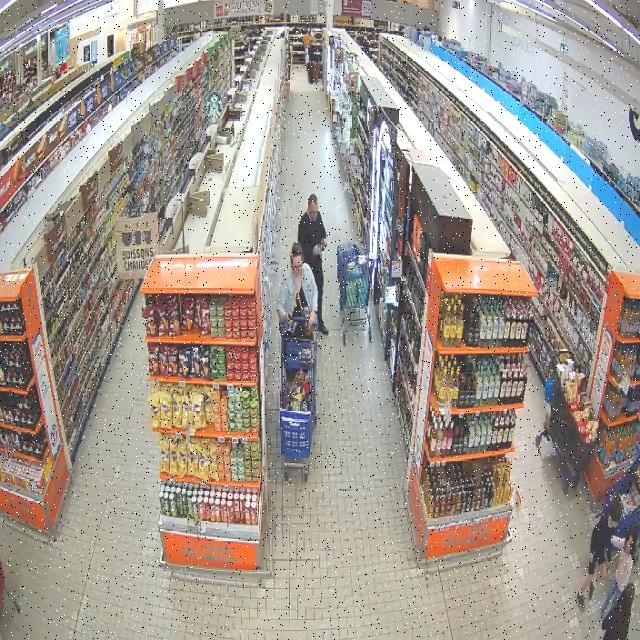article: (316, 244, 327, 252)
hands: (310, 312, 316, 325), (313, 246, 320, 256), (287, 313, 292, 324), (321, 238, 327, 246)
person: (576, 496, 622, 609), (297, 194, 328, 334), (276, 242, 319, 337), (603, 528, 637, 614), (603, 584, 634, 639)
